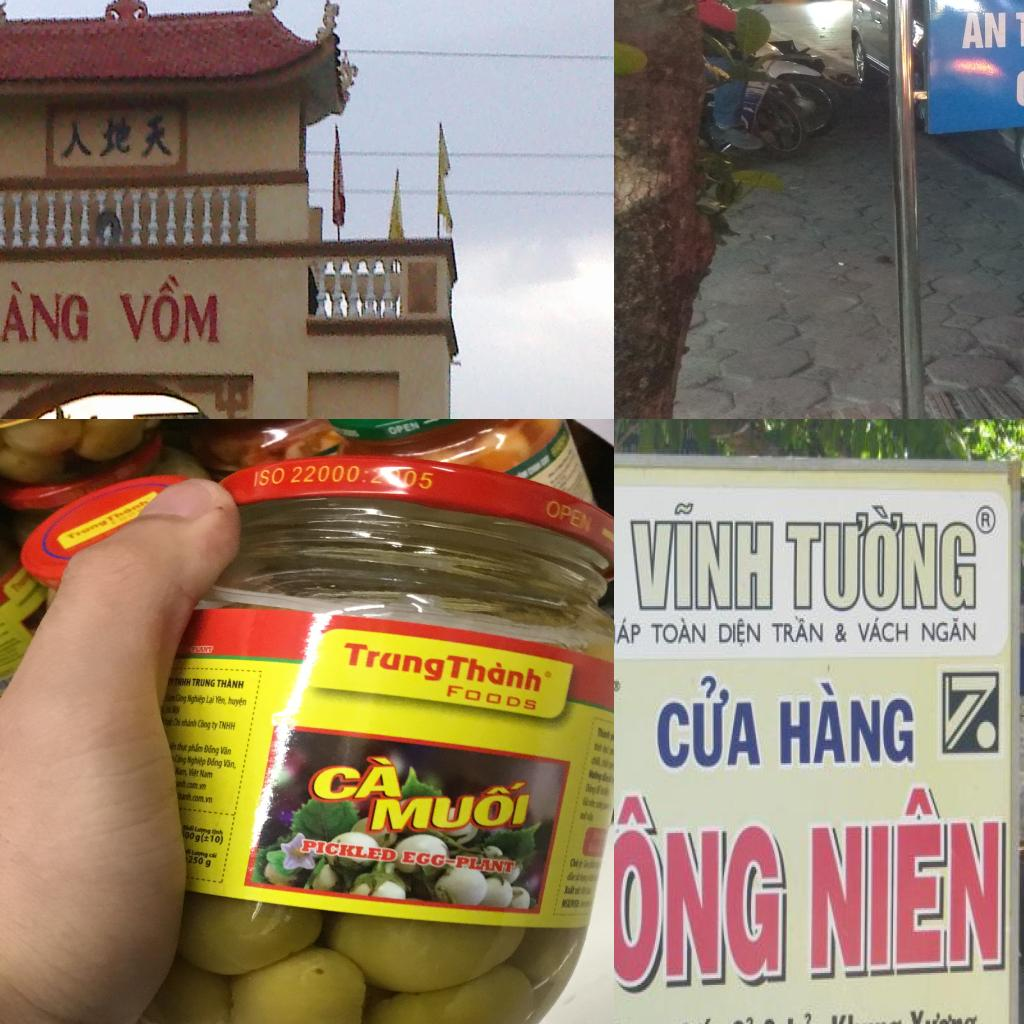text: (805, 782, 1008, 983), (614, 788, 788, 1002), (780, 500, 982, 613), (623, 498, 779, 613), (776, 674, 922, 774), (652, 673, 766, 775), (368, 777, 534, 836), (116, 267, 226, 350), (0, 277, 92, 348), (302, 750, 407, 806), (248, 464, 441, 494), (339, 639, 444, 685), (445, 651, 550, 697), (400, 848, 519, 876), (295, 836, 400, 864), (444, 683, 540, 711), (918, 613, 982, 649), (541, 498, 599, 537), (960, 10, 1008, 50), (769, 614, 825, 648), (903, 1000, 982, 1024), (650, 615, 708, 647), (857, 616, 912, 649), (716, 614, 765, 648), (829, 1003, 903, 1024), (104, 497, 152, 522), (65, 519, 111, 541), (614, 614, 642, 648), (384, 419, 423, 438), (9, 570, 35, 594), (181, 832, 225, 846), (675, 1012, 723, 1024), (178, 791, 214, 806), (832, 620, 852, 647), (1013, 61, 1024, 107), (786, 1008, 816, 1024), (184, 855, 214, 870), (978, 508, 996, 532), (217, 676, 247, 690), (758, 1010, 785, 1024), (175, 779, 207, 790), (729, 1012, 757, 1024), (192, 676, 216, 689), (594, 725, 612, 742), (187, 644, 217, 654), (187, 691, 207, 705), (228, 694, 248, 708), (217, 718, 236, 732), (558, 898, 582, 909), (206, 755, 223, 770), (222, 757, 239, 772), (203, 742, 220, 756), (188, 754, 206, 767), (197, 717, 212, 732), (173, 752, 188, 766), (180, 716, 197, 728), (194, 824, 212, 835), (200, 768, 216, 780), (188, 741, 202, 754), (218, 745, 232, 758), (174, 766, 188, 778), (175, 677, 191, 687), (176, 740, 188, 753), (192, 849, 209, 858), (176, 692, 188, 704), (216, 694, 228, 706), (188, 767, 200, 779), (180, 822, 194, 832), (569, 857, 580, 869), (563, 885, 575, 896), (171, 716, 182, 727), (208, 850, 220, 860), (206, 692, 214, 706), (211, 828, 224, 836), (171, 705, 182, 714), (211, 720, 218, 733), (609, 730, 614, 743), (574, 886, 582, 894), (614, 681, 620, 691), (578, 860, 583, 869)
